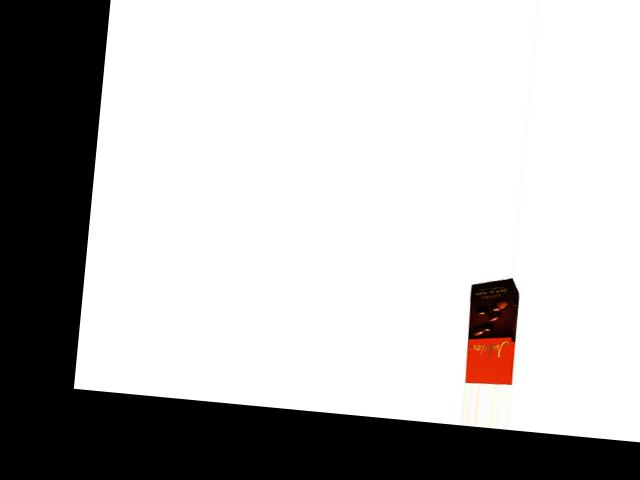chocolate: (456, 275, 523, 386)
